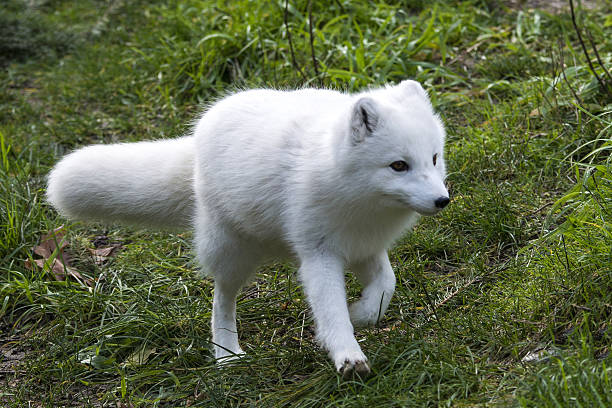arcticfox: (344, 113, 455, 218)
